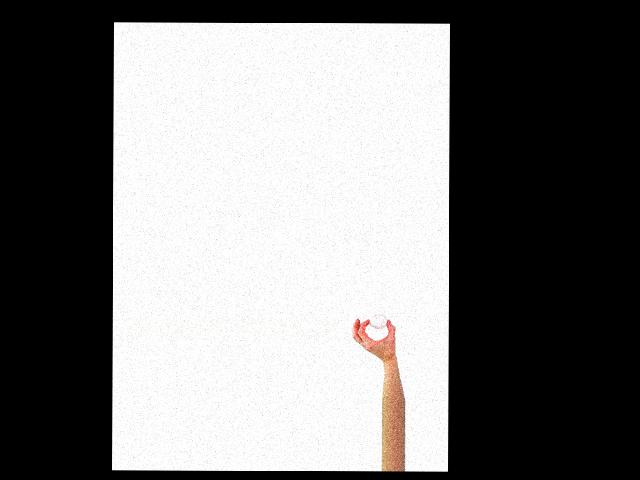egg: (369, 314, 387, 329)
